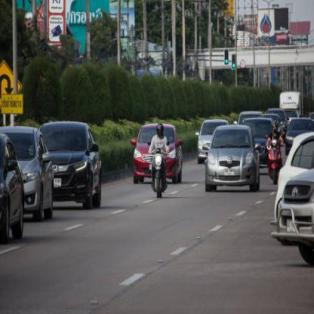Motocicleta: (151, 142, 169, 204)
